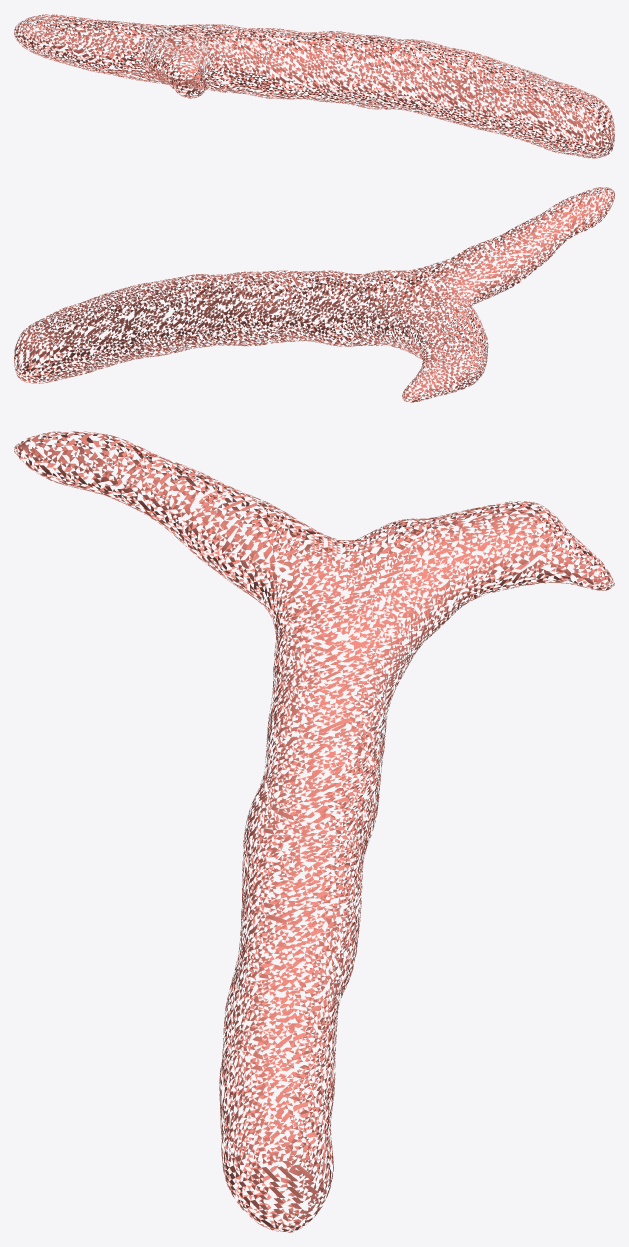
The model's file is diseased.glb.
3 renders of one model, top to bottom at view 1: azimuth 30°, elevation 25°; view 2: azimuth 150°, elevation 25°; view 3: azimuth 270°, elevation 25°, orthographic. The views are drawn at different scales.
Bounding box in the file's own units: 120 × 55.67 × 73.12.
